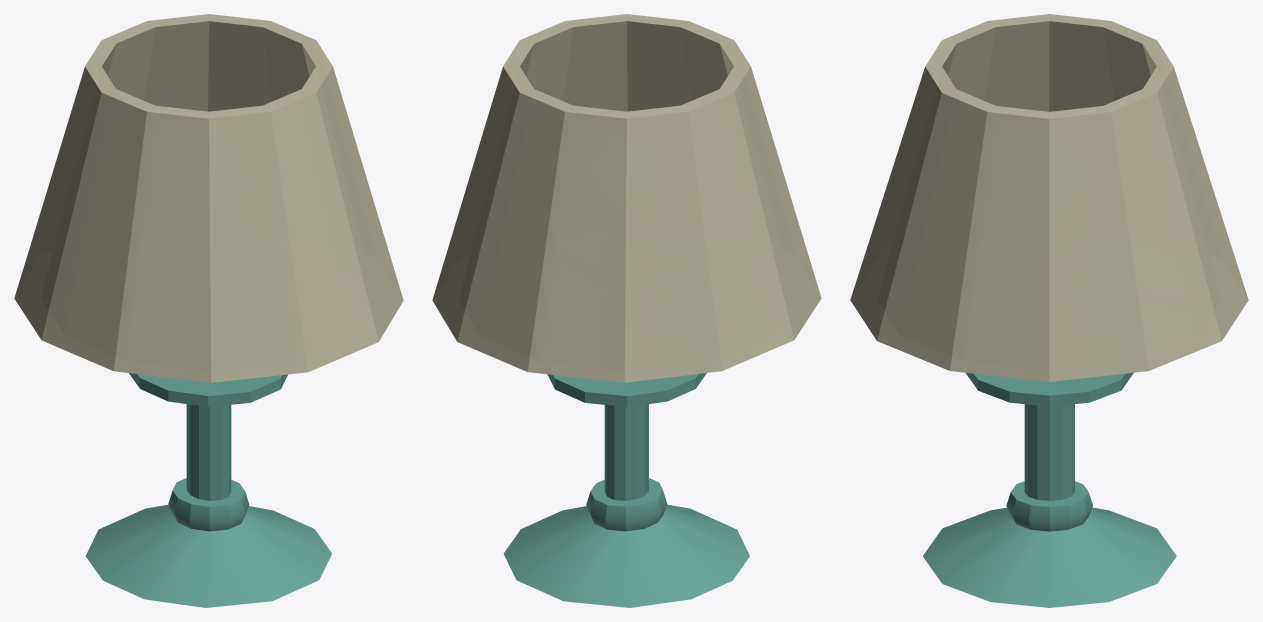
File: lamp1.fbx
3 views of the same model, side by side, from view 1: azimuth 30°, elevation 25°; view 2: azimuth 150°, elevation 25°; view 3: azimuth 270°, elevation 25° (orthographic).
Visible parts, largest first — view 1: pPipe1, pCylinder1; view 2: pPipe1, pCylinder1; view 3: pPipe1, pCylinder1.
Boxes of the visible parts, box(x1,y1,x2,y2) form: pPipe1: box(14, 14, 403, 382); pCylinder1: box(85, 373, 331, 607); pPipe1: box(432, 14, 821, 382); pCylinder1: box(503, 373, 749, 607); pPipe1: box(850, 14, 1248, 381); pCylinder1: box(923, 372, 1176, 607).
Bounding box in the file's own units: 1.15 × 1.6 × 1.18.
